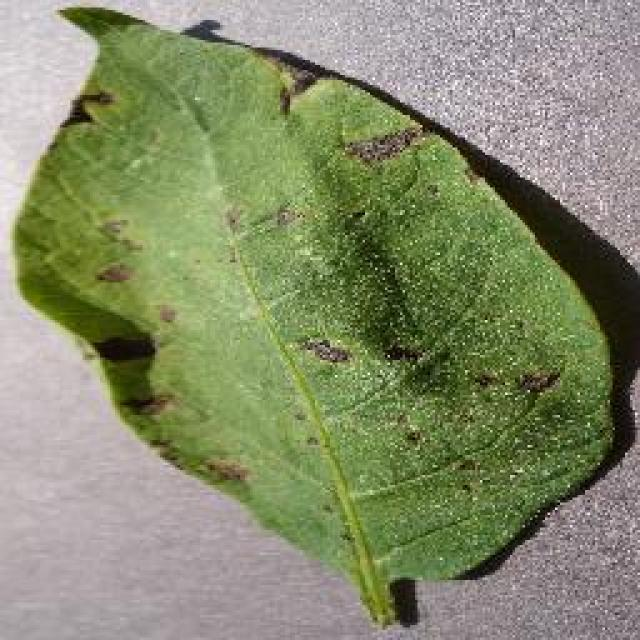early_blight: (7, 0, 625, 630)
